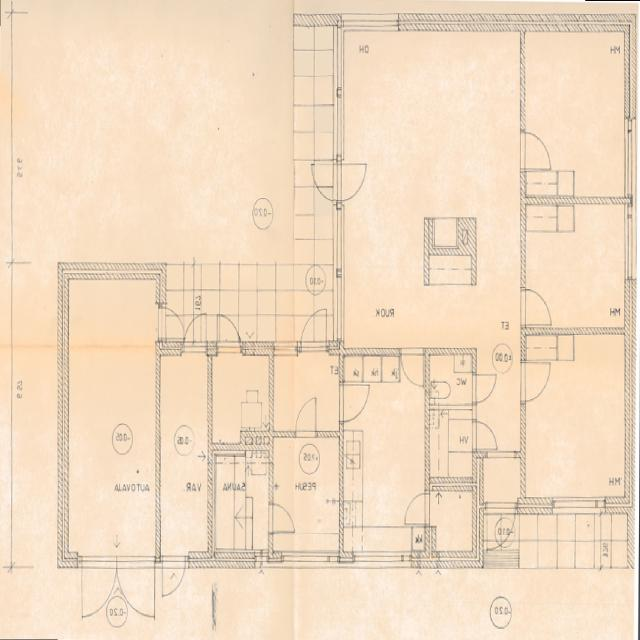door: (117, 557, 154, 622), (81, 557, 117, 622), (488, 503, 516, 556), (333, 165, 369, 201), (309, 165, 344, 201), (301, 304, 326, 352), (521, 364, 551, 402), (217, 307, 241, 353), (162, 556, 185, 602), (339, 386, 368, 422), (521, 132, 550, 168), (521, 290, 549, 325), (184, 310, 205, 353), (157, 309, 185, 339), (402, 349, 423, 388), (404, 494, 429, 525), (296, 402, 315, 438), (472, 375, 496, 403), (472, 422, 496, 449), (269, 504, 292, 532)
